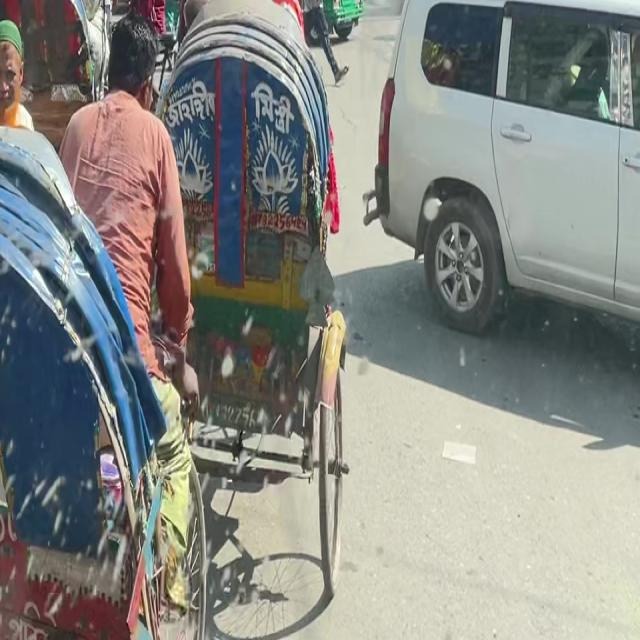rickshaw: (265, 0, 371, 32)
